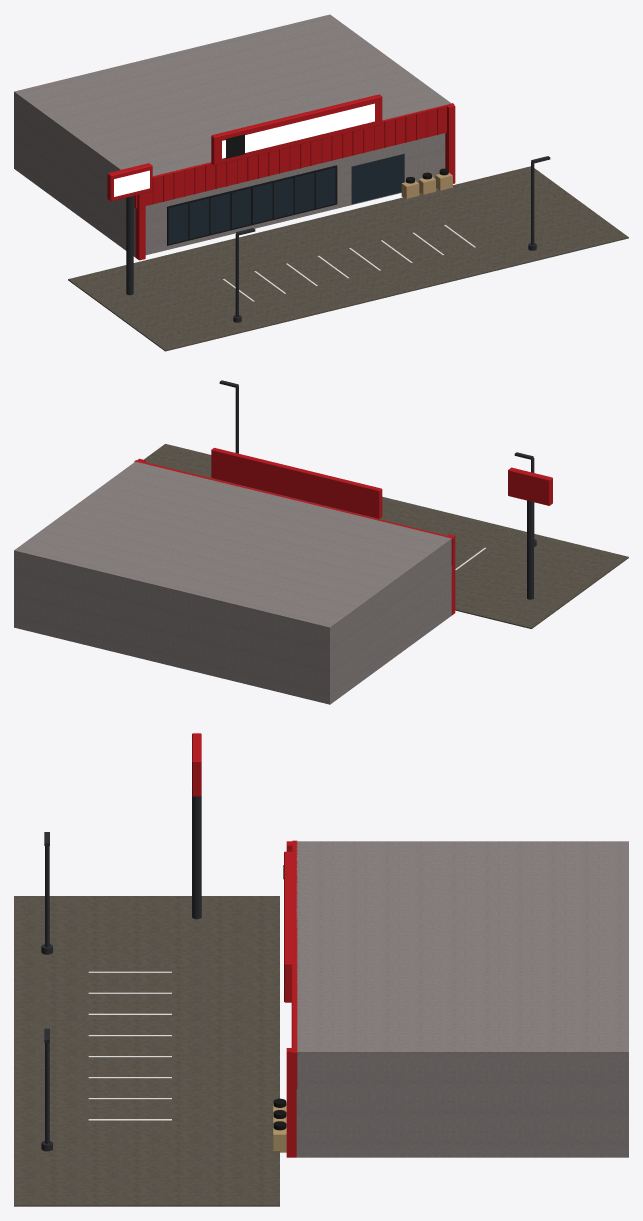
Rendered from OT_AutoParts_A.glb.
3 views of the same model, one above another, from view 1: azimuth 30°, elevation 25°; view 2: azimuth 150°, elevation 25°; view 3: azimuth 270°, elevation 25° (orthographic). The views are drawn at different scales.
Visible parts, largest first — view 1: OT_AutoParts_A_Block, OT_AutoParts_A_Pavement, OT_AutoParts_A_APRed__c4161d, OT_AutoParts_A_Glass__22303a, OT_AutoParts_A_SignWhiteGlow__f4f8ff, OT_AutoParts_A_Frame__18191c, OT_AutoParts_A_RedLine__a01218, OT_AutoParts_A_PoleDark__2a2c30, OT_AutoParts_A_Pallet__c0a070, OT_AutoParts_A_PoleDark__2a2c30.001, OT_AutoParts_A_PaintWhite__f0f0ee.001; view 2: OT_AutoParts_A_Block, OT_AutoParts_A_Pavement, OT_AutoParts_A_APRed__c4161d, OT_AutoParts_A_PoleDark__2a2c30.001, OT_AutoParts_A_PoleDark__2a2c30; view 3: OT_AutoParts_A_Block, OT_AutoParts_A_Pavement, OT_AutoParts_A_APRed__c4161d, OT_AutoParts_A_PoleDark__2a2c30, OT_AutoParts_A_PaintWhite__f0f0ee.001, OT_AutoParts_A_PoleDark__2a2c30.001.
Part boxes in pixels (box(x1,y1,x2,y2)): OT_AutoParts_A_Block: box(14, 14, 451, 257); OT_AutoParts_A_Pavement: box(68, 166, 628, 351); OT_AutoParts_A_APRed__c4161d: box(107, 94, 455, 260); OT_AutoParts_A_Glass__22303a: box(168, 153, 404, 243); OT_AutoParts_A_SignWhiteGlow__f4f8ff: box(114, 103, 374, 196); OT_AutoParts_A_Frame__18191c: box(167, 165, 337, 245); OT_AutoParts_A_RedLine__a01218: box(152, 108, 438, 204); OT_AutoParts_A_PoleDark__2a2c30: box(233, 156, 550, 322); OT_AutoParts_A_Pallet__c0a070: box(401, 172, 452, 198); OT_AutoParts_A_PoleDark__2a2c30.001: box(126, 196, 133, 295); OT_AutoParts_A_PaintWhite__f0f0ee.001: box(222, 225, 475, 301); OT_AutoParts_A_Block: box(14, 461, 451, 704); OT_AutoParts_A_Pavement: box(144, 444, 628, 628); OT_AutoParts_A_APRed__c4161d: box(134, 447, 552, 615); OT_AutoParts_A_PoleDark__2a2c30.001: box(527, 500, 533, 599); OT_AutoParts_A_PoleDark__2a2c30: box(219, 380, 536, 546); OT_AutoParts_A_Block: box(296, 841, 628, 1157); OT_AutoParts_A_Pavement: box(14, 896, 279, 1206); OT_AutoParts_A_APRed__c4161d: box(192, 733, 297, 1157); OT_AutoParts_A_PoleDark__2a2c30: box(41, 832, 52, 1151); OT_AutoParts_A_PaintWhite__f0f0ee.001: box(88, 971, 171, 1120); OT_AutoParts_A_PoleDark__2a2c30.001: box(192, 796, 201, 919).
Size of the model in its own units: 44 by 11.4 by 37.
15 materials, 2 textured.
